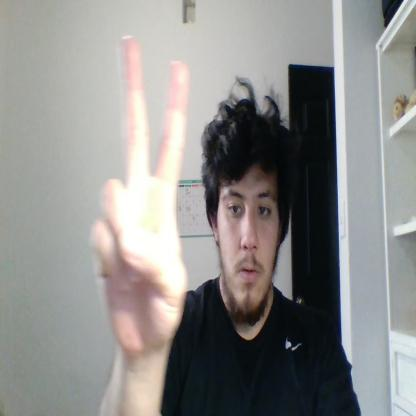V: (92, 33, 188, 352)
